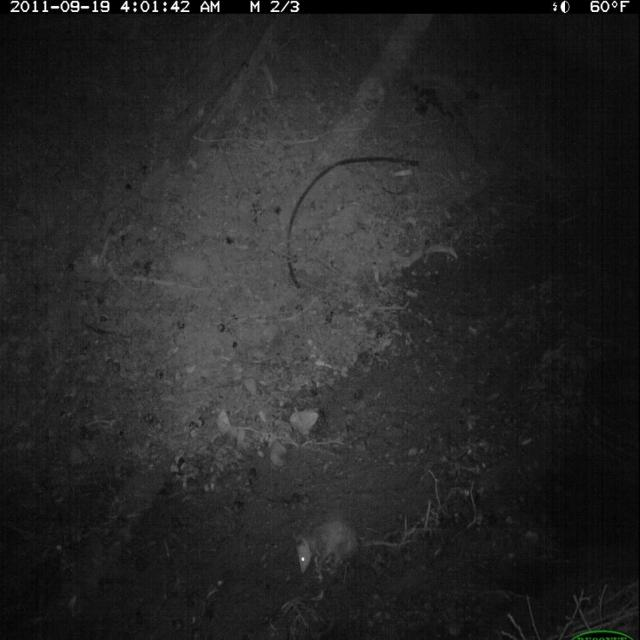opossum: (289, 504, 411, 586)
